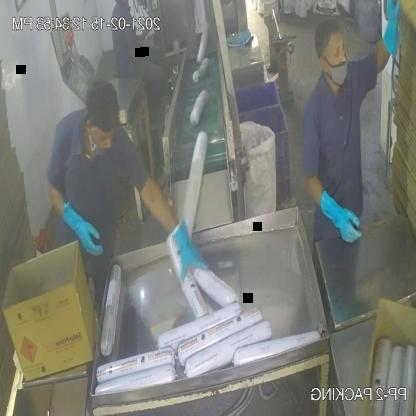glove: (167, 211, 216, 292), (317, 175, 368, 243), (61, 206, 104, 266), (374, 0, 403, 66)
